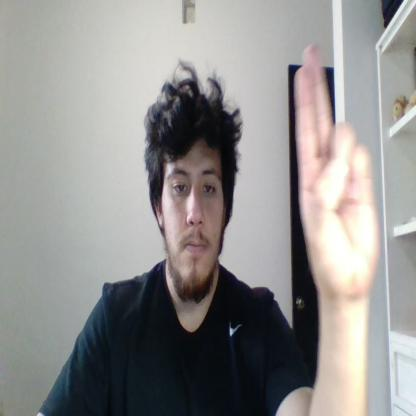U: (294, 42, 380, 299)
